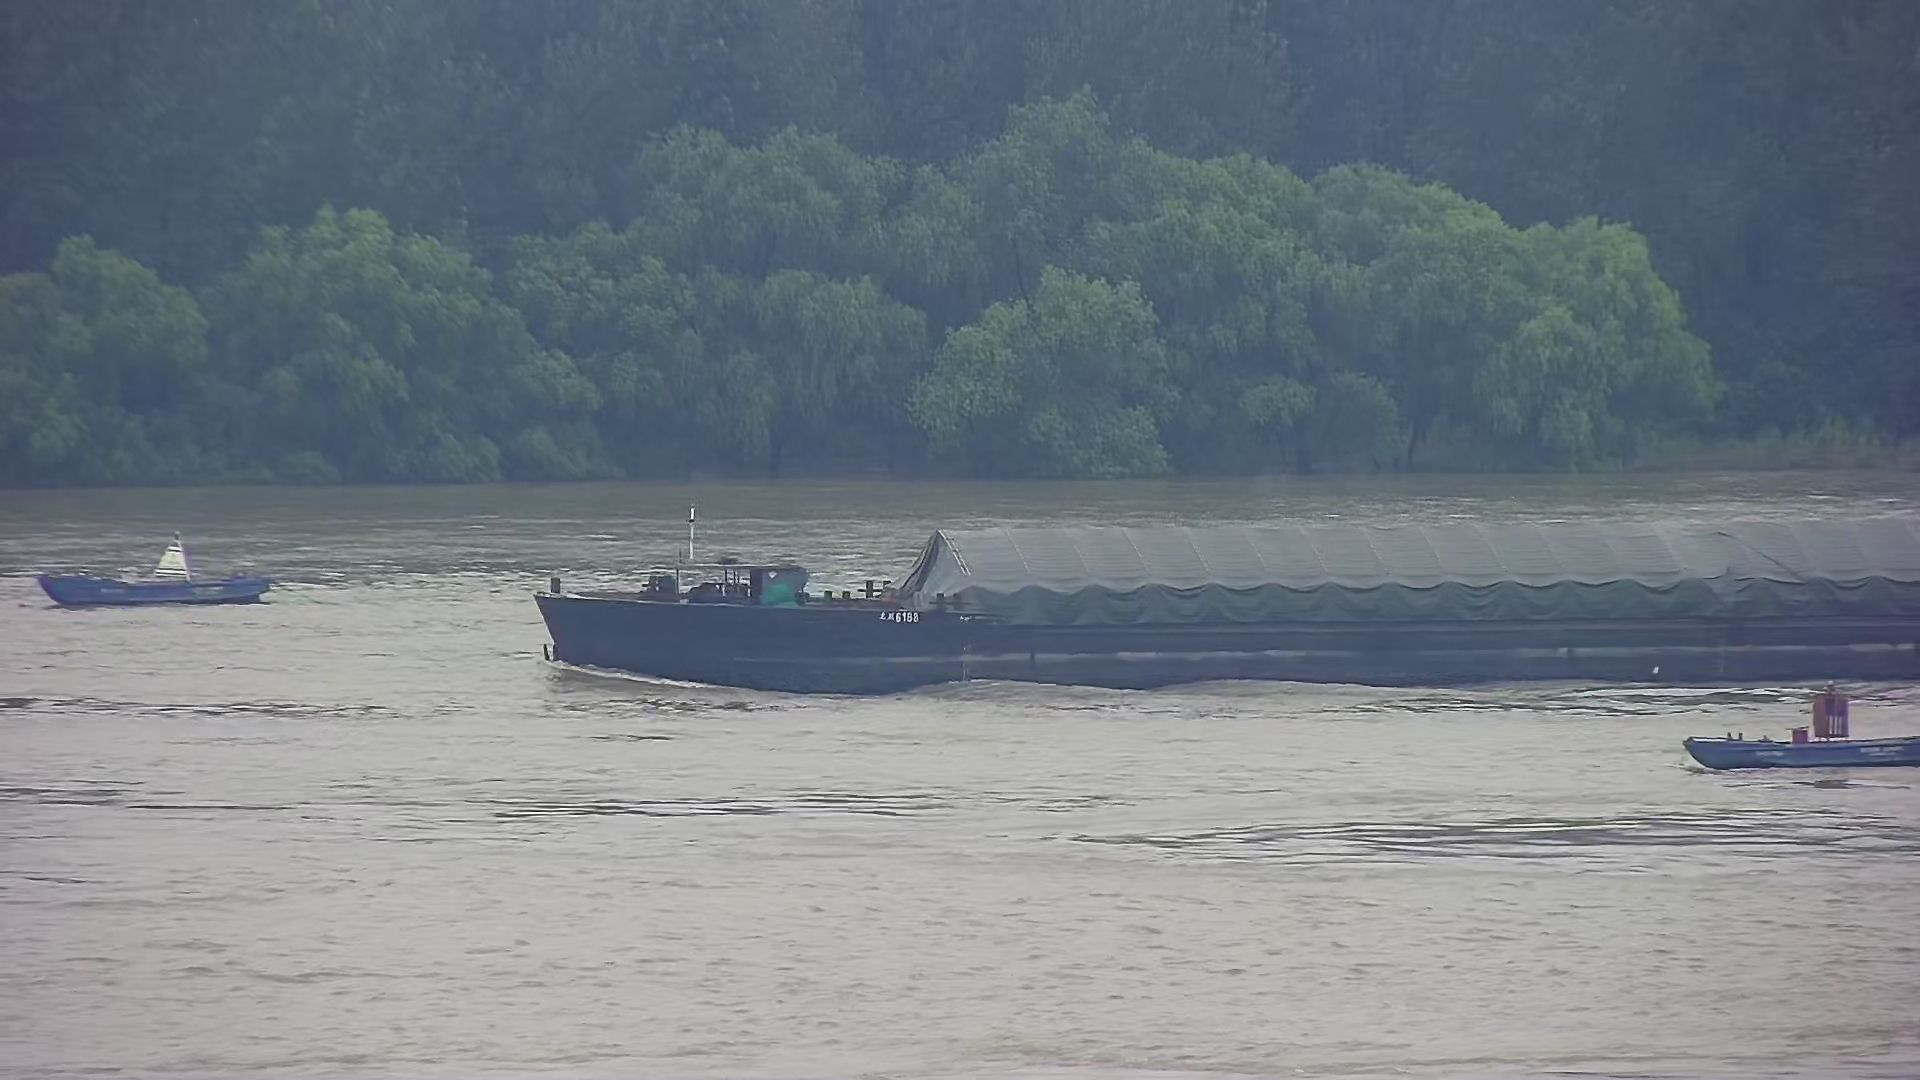boat: (20, 512, 286, 617), (1681, 682, 1920, 785)
ship: (506, 480, 1920, 694)
